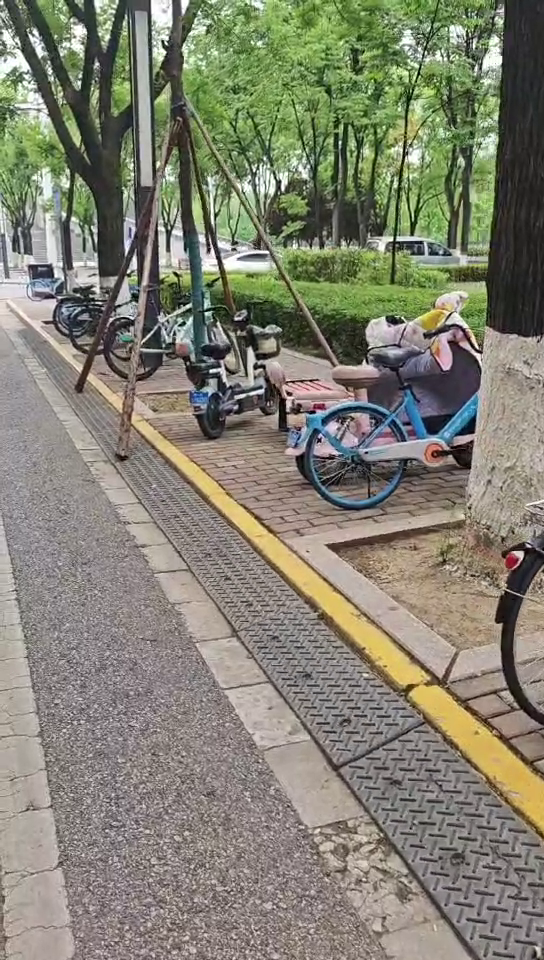others: (182, 305, 286, 444)
shared_bike_haluo: (315, 335, 498, 498)
